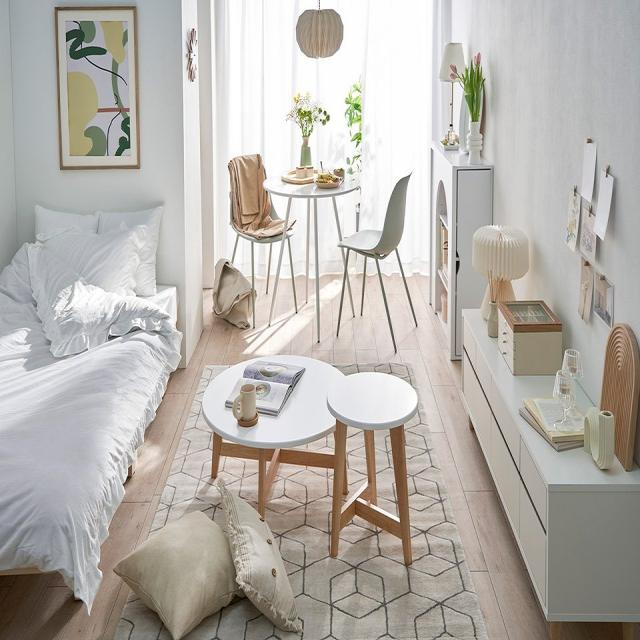modern chair: (328, 370, 417, 574), (334, 168, 425, 353), (223, 148, 297, 325)
modern desk: (203, 333, 329, 512)
modern shelf: (454, 294, 636, 633)
